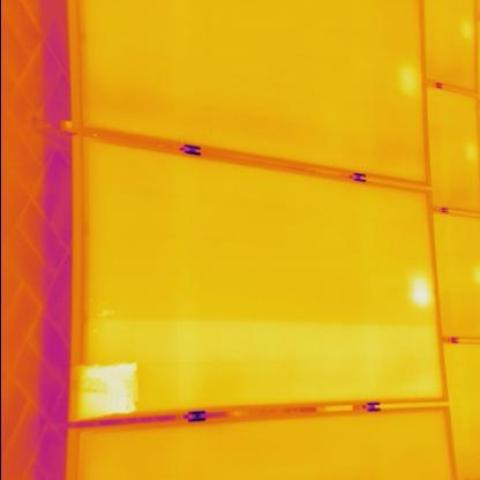fault: (72, 365, 138, 410), (414, 278, 429, 307)
